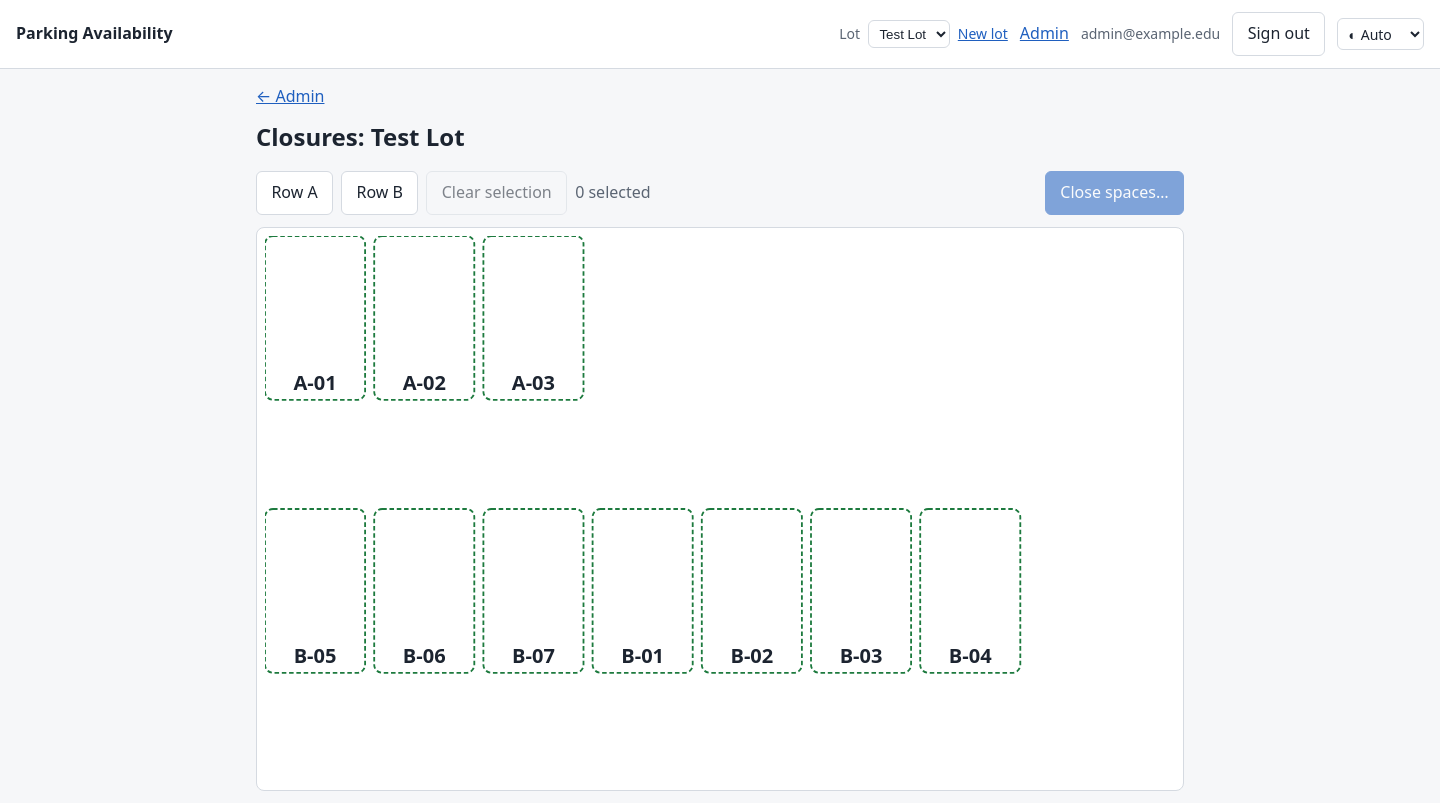
closing spaces › returns focus to "Close spaces…" when the dialog is cancelled
Click the button "Row B" at {"x": 380, "y": 193}, box x1=341 y1=171 x2=418 y2=215
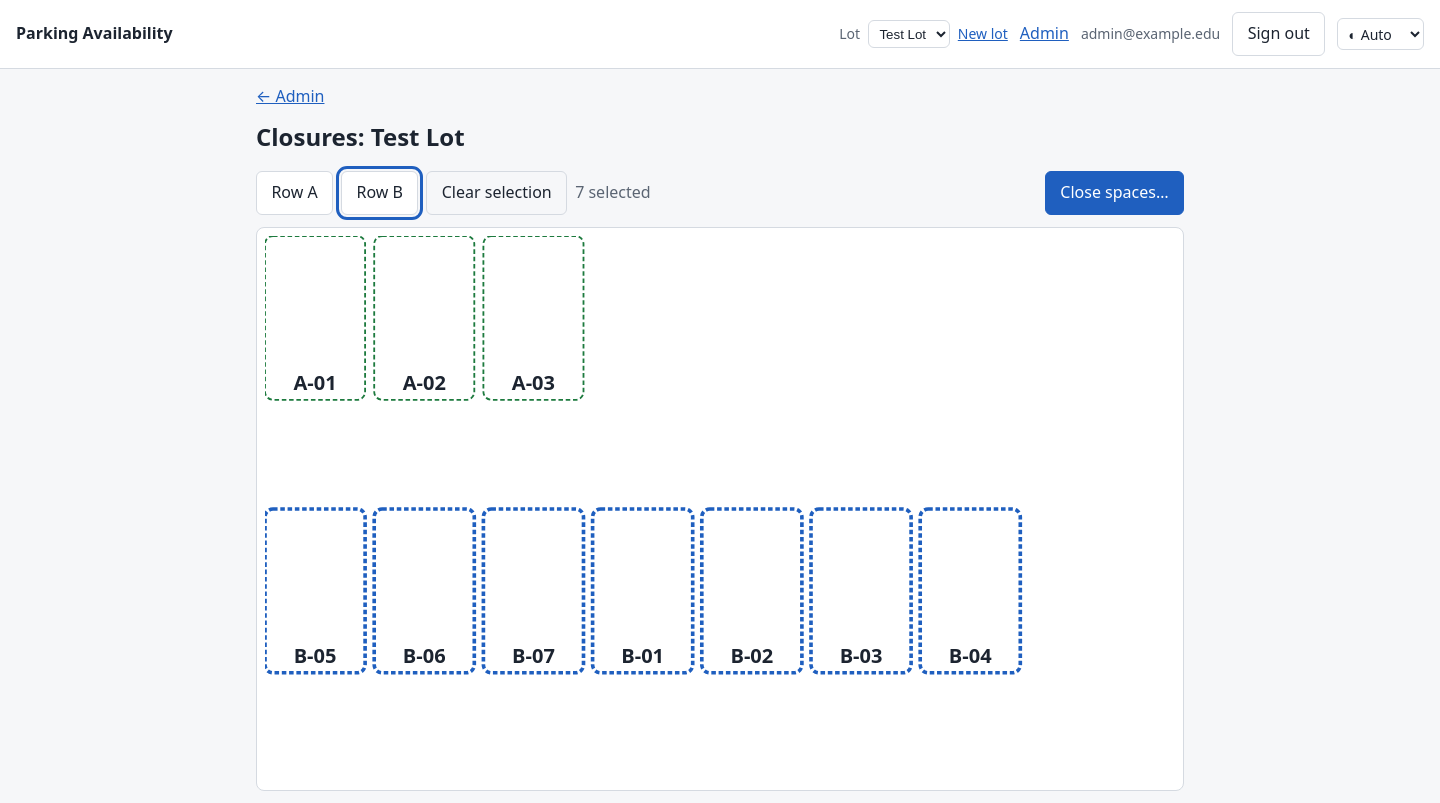
Expected: the text "7 selected" is shown, x1=575 y1=181 x2=651 y2=205
Click the button "Close spaces…" at {"x": 1114, "y": 193}, box x1=1045 y1=171 x2=1184 y2=215
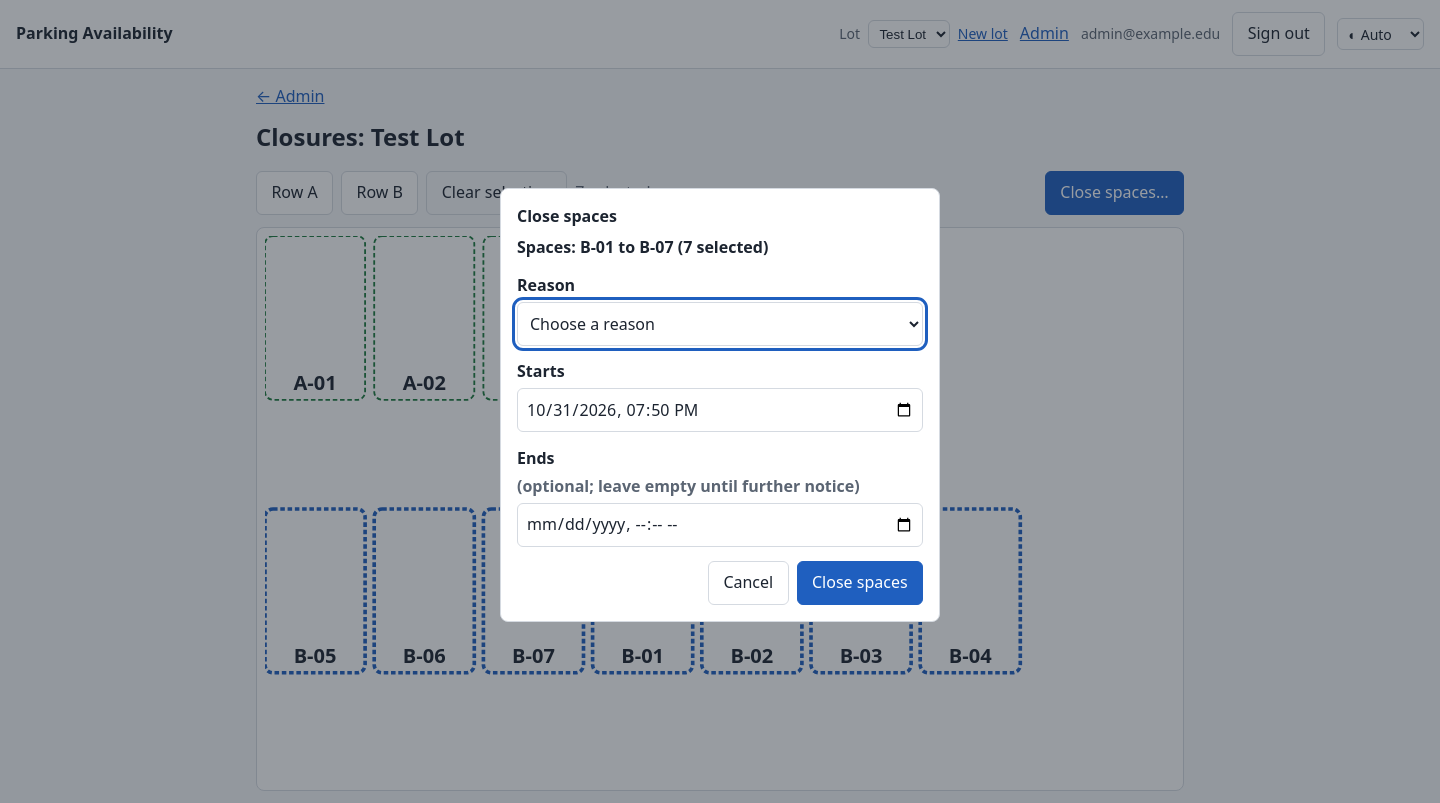
Click the button "Cancel" at {"x": 748, "y": 583}, box x1=708 y1=561 x2=789 y2=605
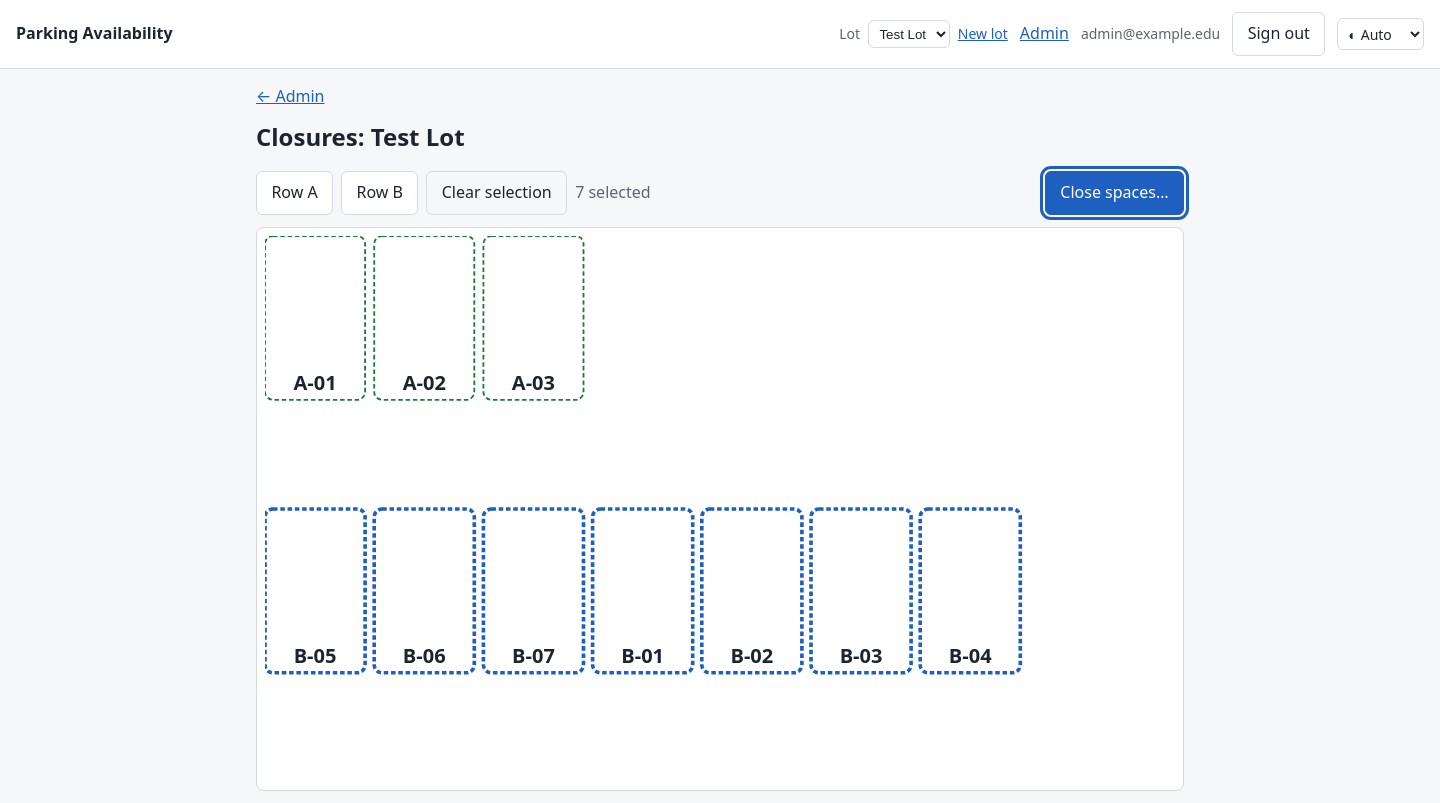
Expected: the dialog is gone
